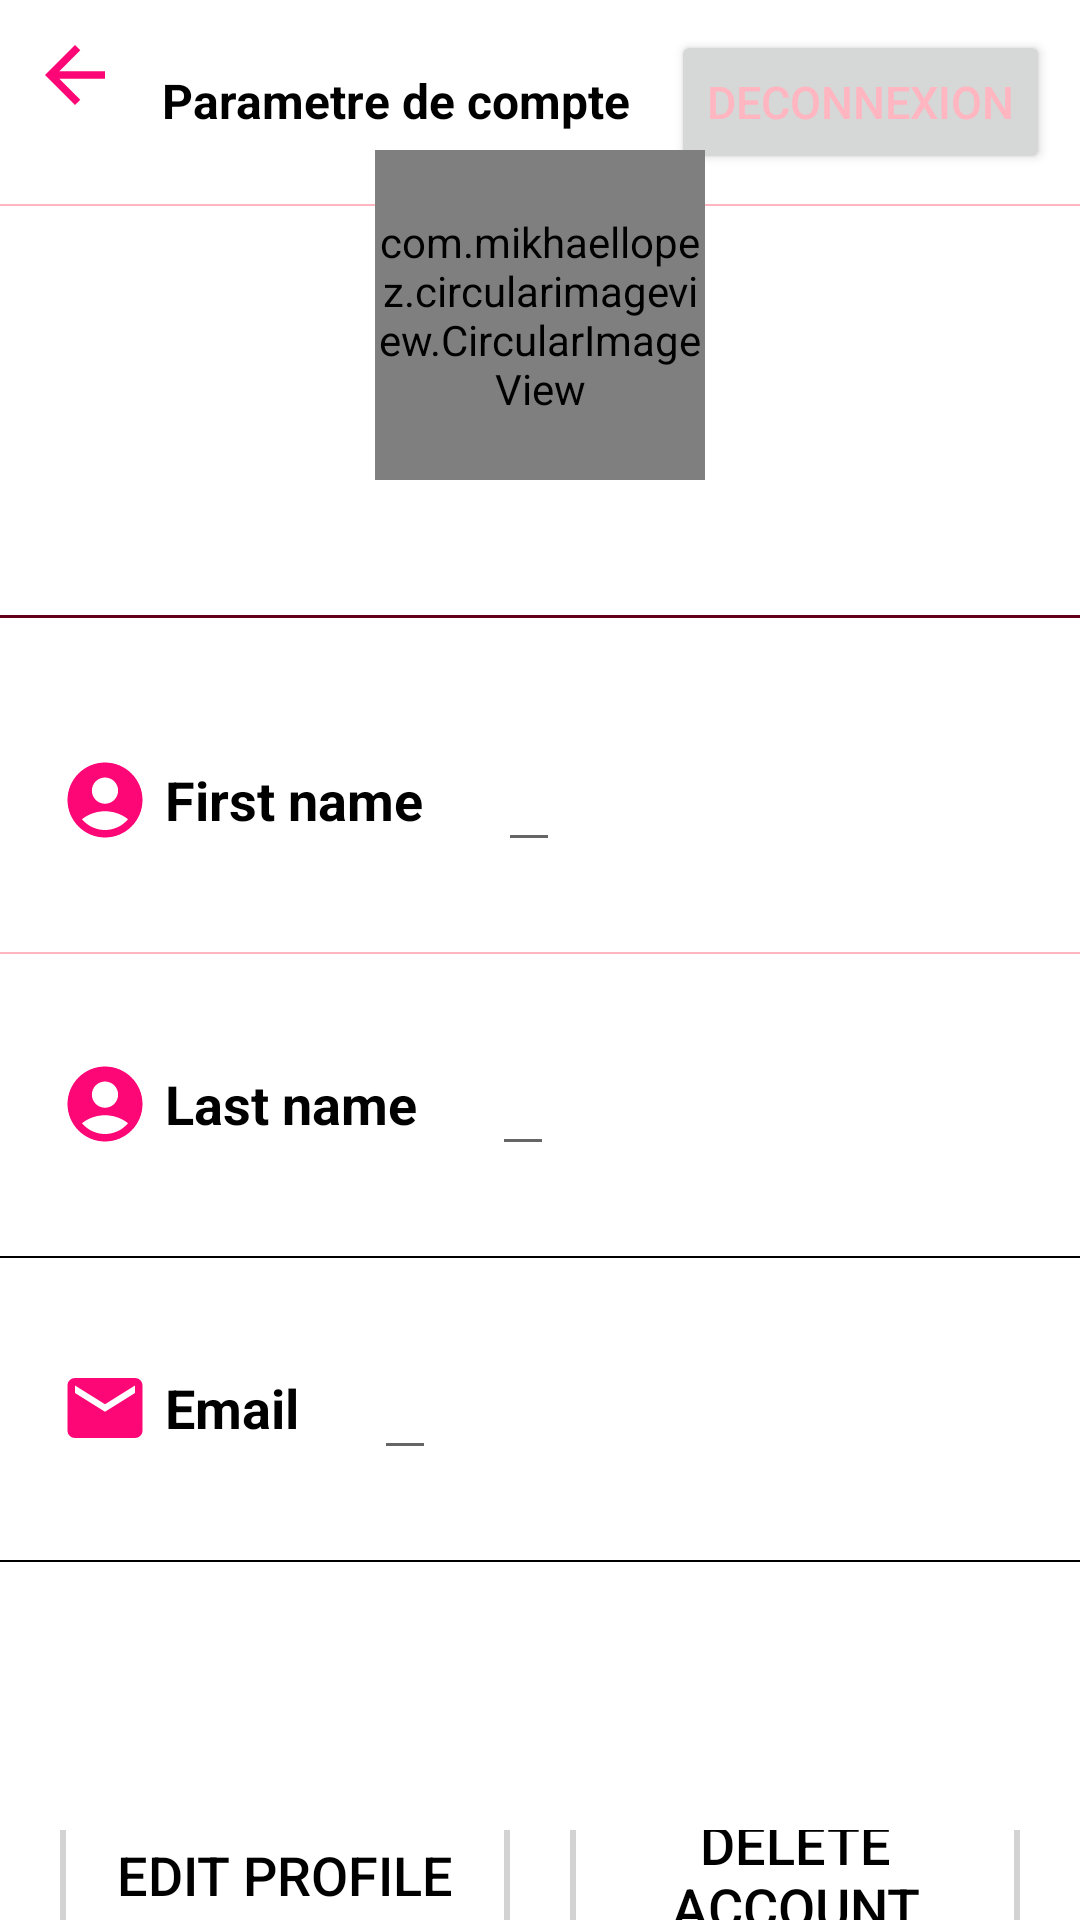

Icon click points for this 1080w x 1920h phone screenshot, format (x,y):
account circle: (105,800), (105,1104)
back: (75,75)
